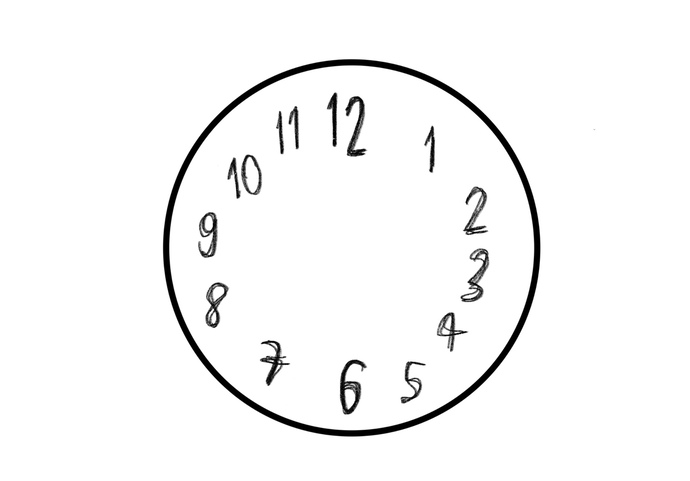eight: (199, 278, 232, 331)
eleven: (270, 102, 303, 156)
five: (399, 353, 429, 408)
four: (431, 307, 471, 353)
nine: (196, 209, 221, 260)
one: (418, 121, 441, 176)
seven: (259, 333, 291, 391)
six: (337, 354, 368, 419)
ten: (224, 153, 265, 202)
three: (461, 242, 494, 308)
twelve: (321, 85, 371, 159)
two: (463, 181, 488, 238)
